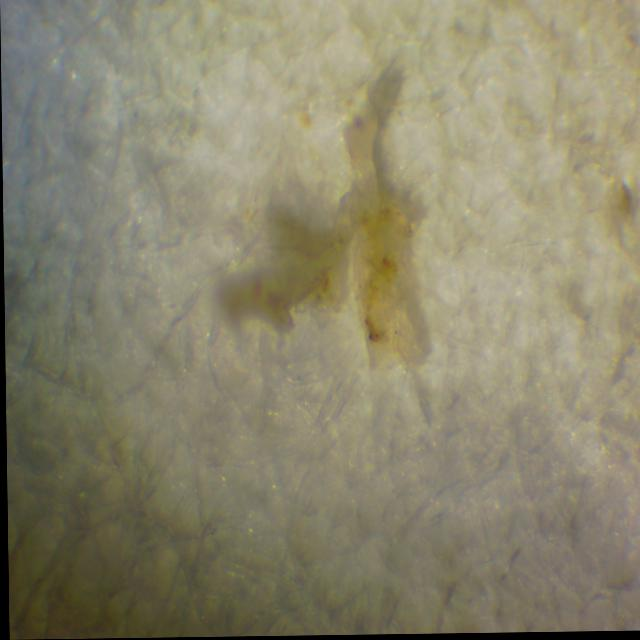microplastic: (204, 71, 432, 387)
